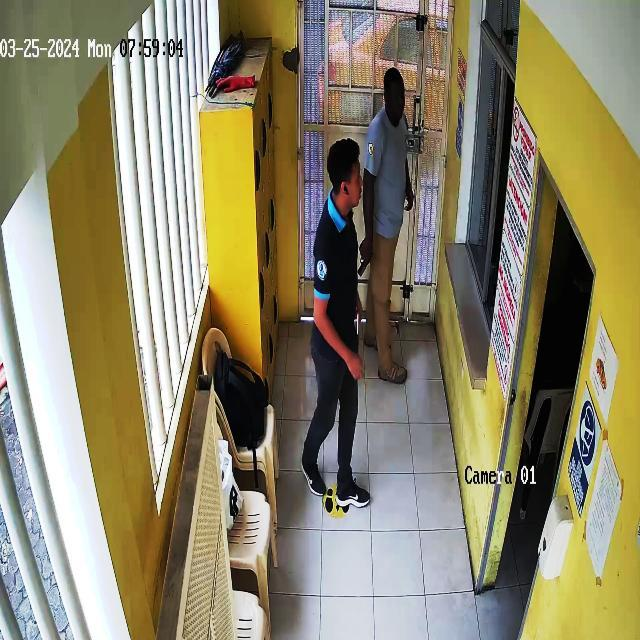Gun: (359, 232, 384, 281)
